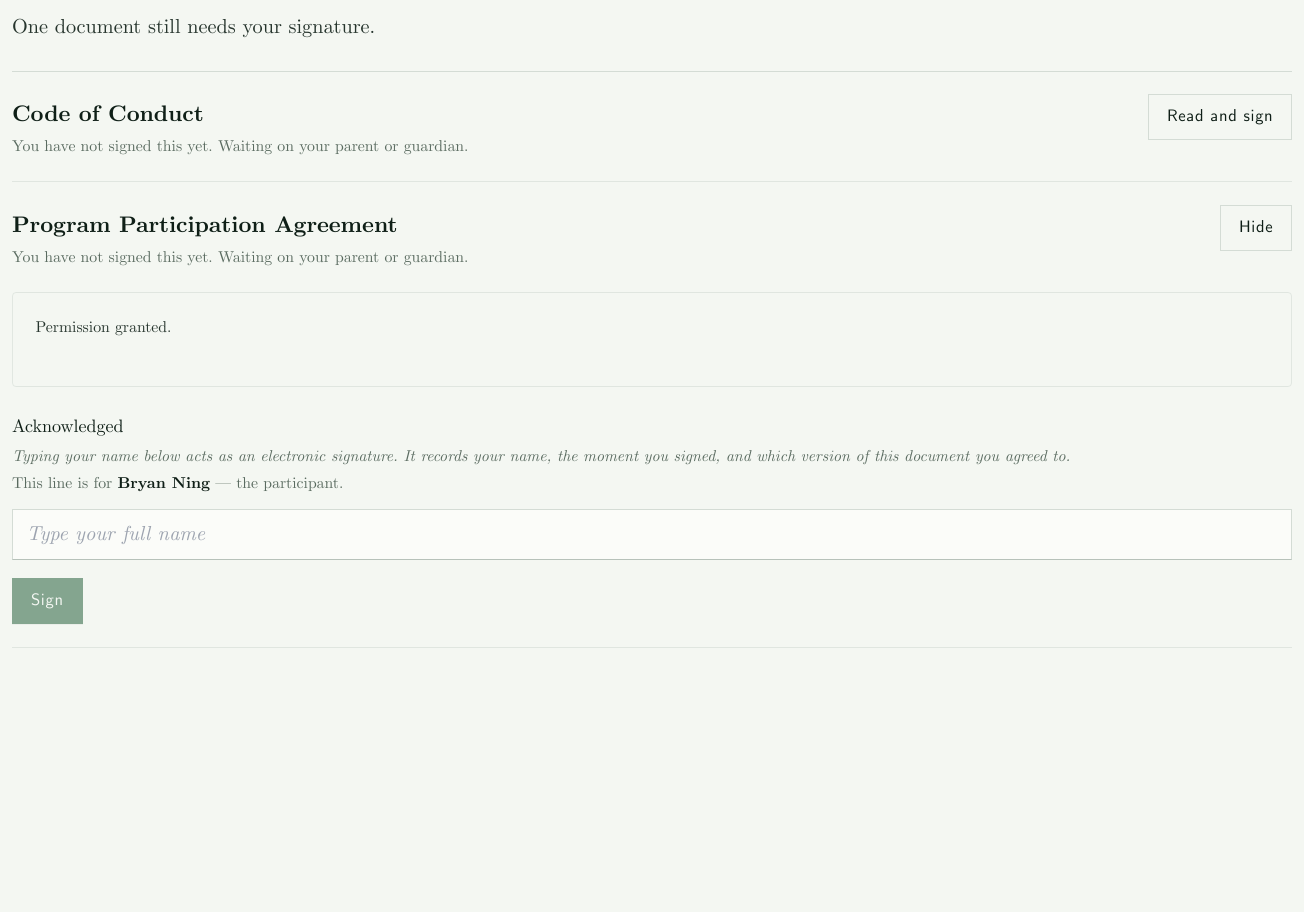
Test: signing as the wrong person › blocks the guardian’s name and explains where they sign instead
The image size is (1304, 912).
In the field with placeholder "Type your full name": x=652, y=535 [12,509,1292,560], type "Allison Ning"
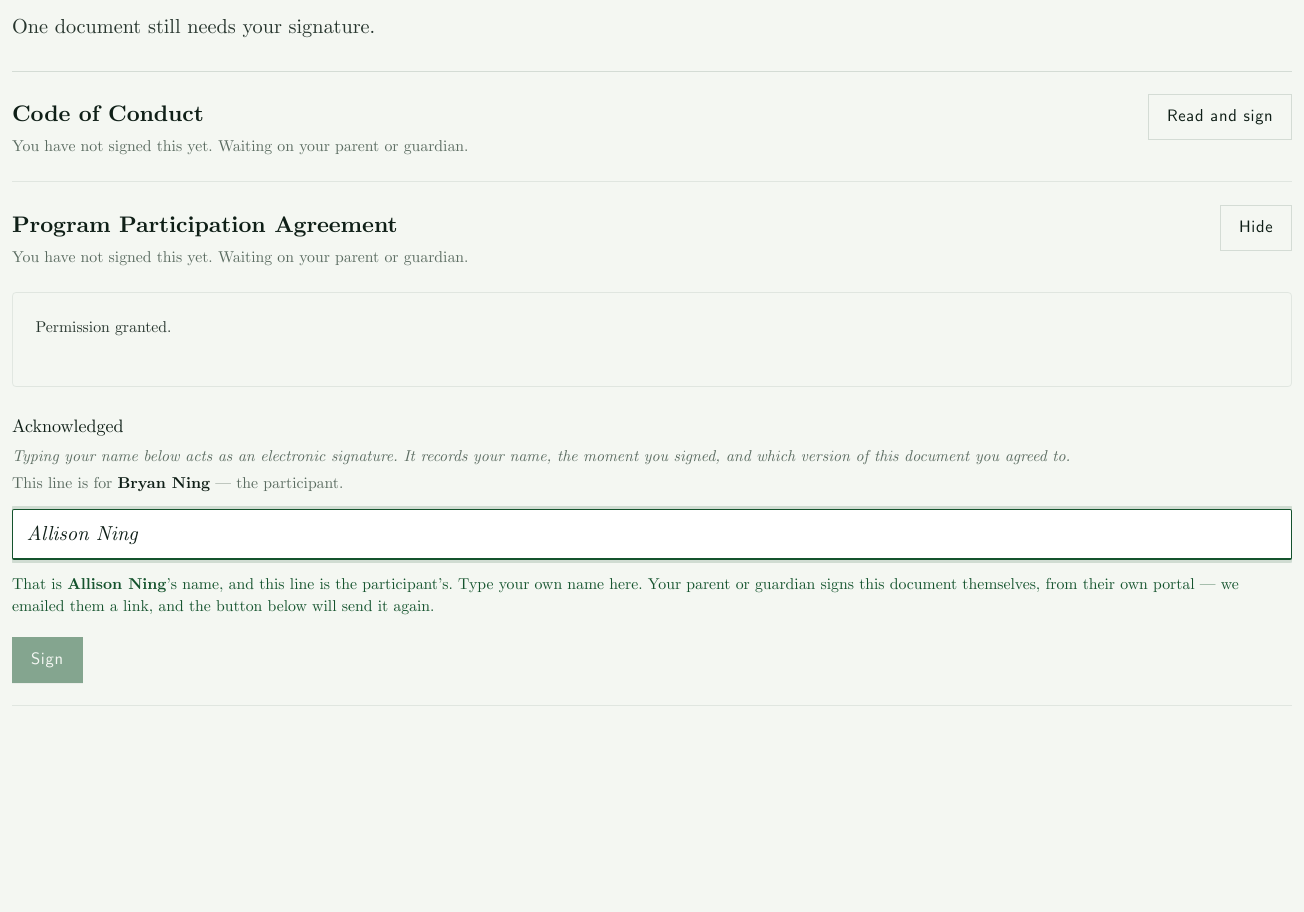
Expected: the button "Sign" is disabled, [12,637,83,683]
Result: the text "from their own portal" is shown at [12,574,1239,618]
